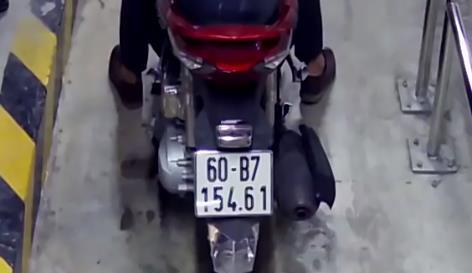lisence: (195, 149, 273, 217)
